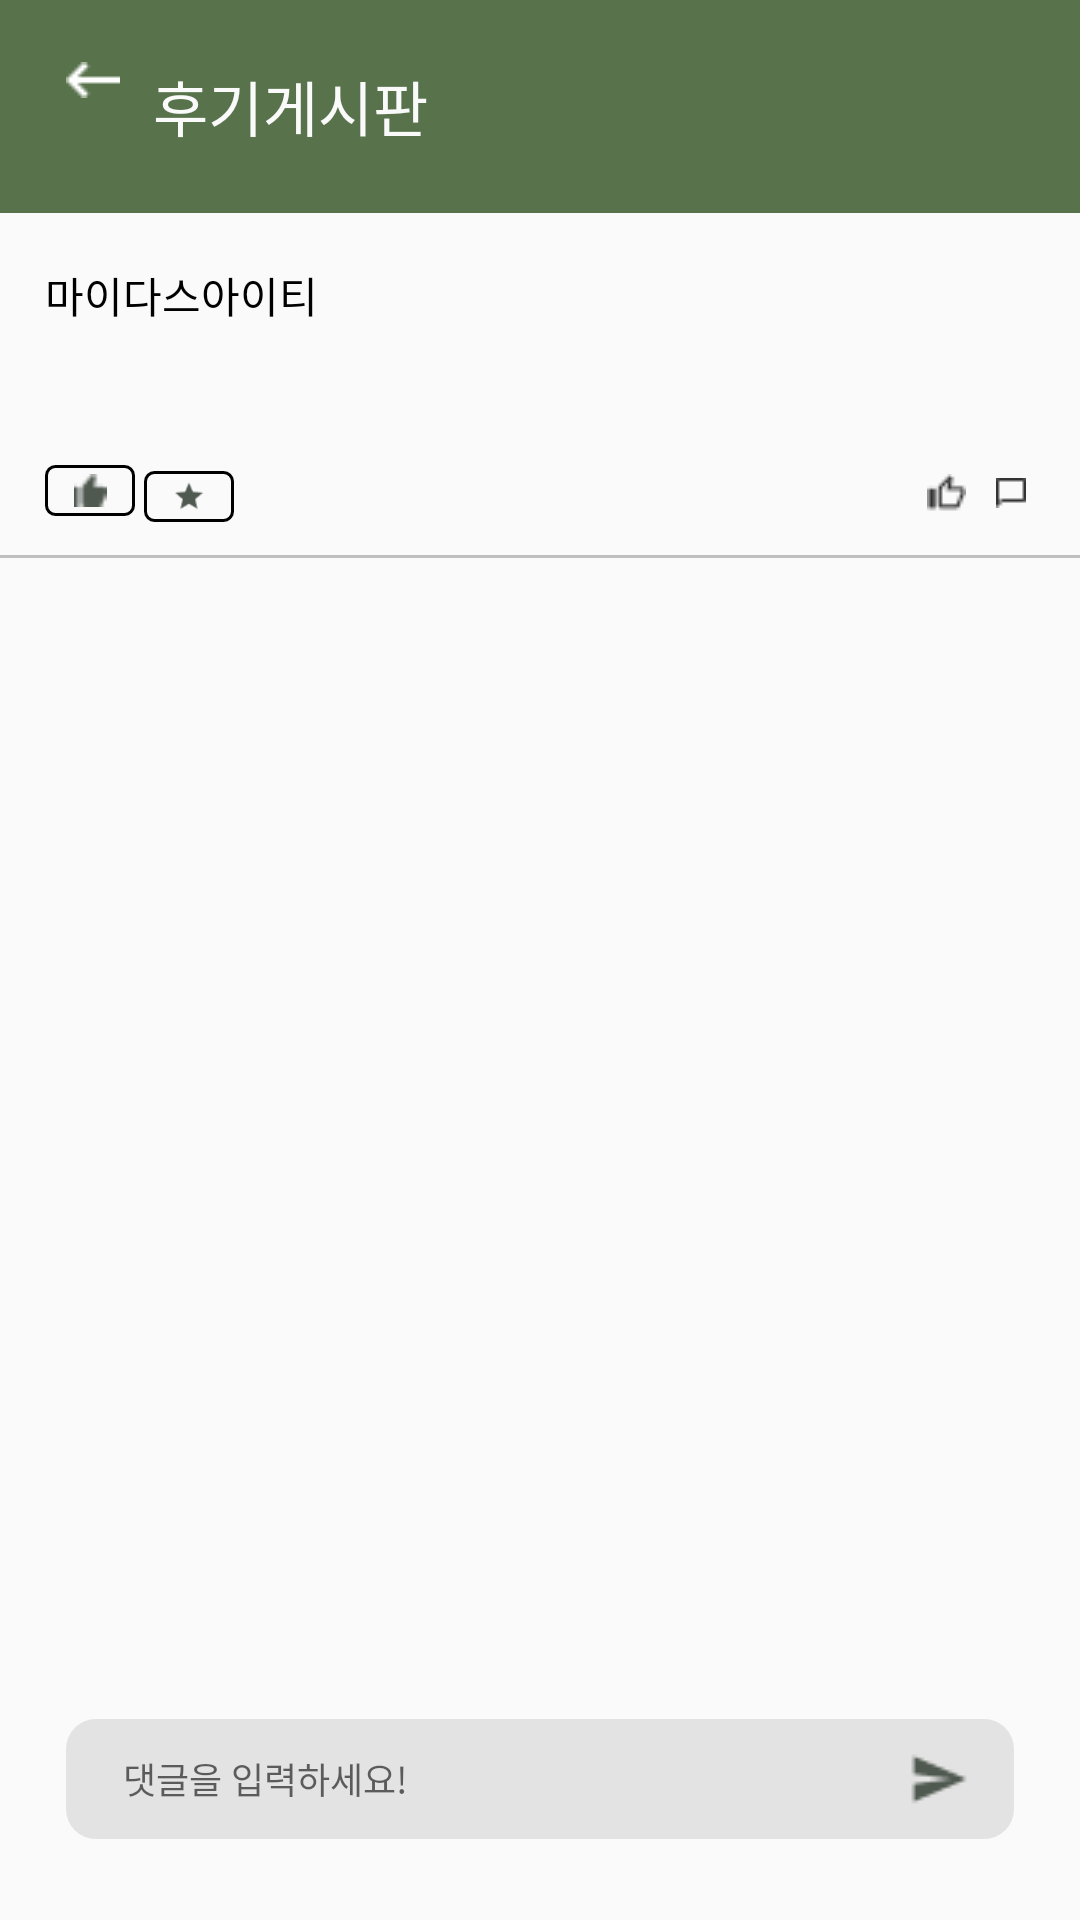

Icon bounding boxes for this 1080x1920 phone screenshot, format (x1, y1, x2, y2):
back: (66, 62, 120, 98)
comment: (996, 478, 1026, 508)
thumb up: (927, 474, 966, 511)
